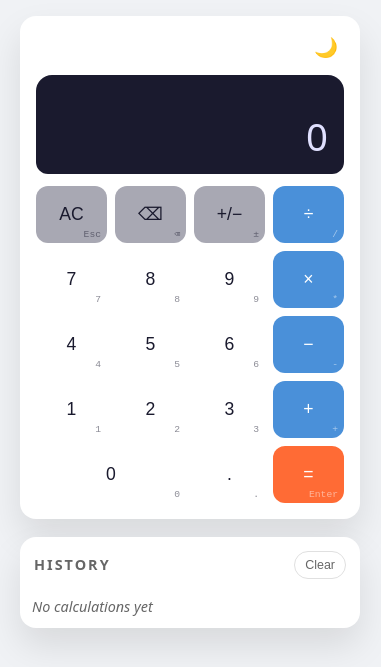
it: App › updates the display when a digit button is clicked
The image size is (381, 667).
Click the button "5 5". click: (150, 344)
box: [115,316,186,373]
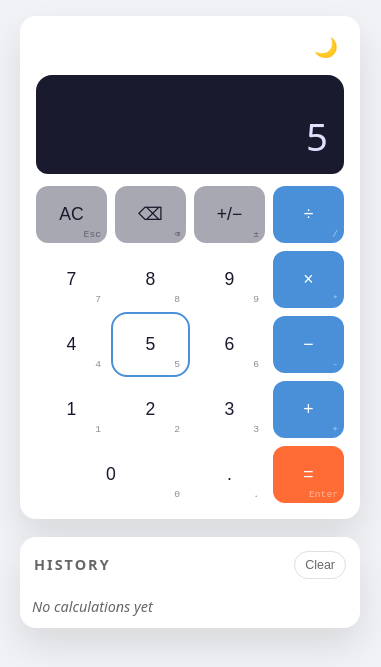
Expected: the 1st text "5" is shown, [306,110,328,162]
